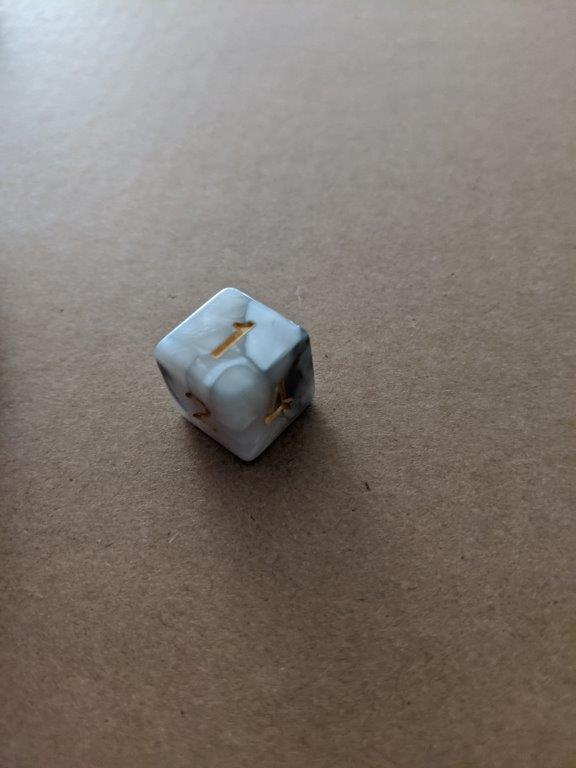d6-1: (154, 288, 314, 463)
